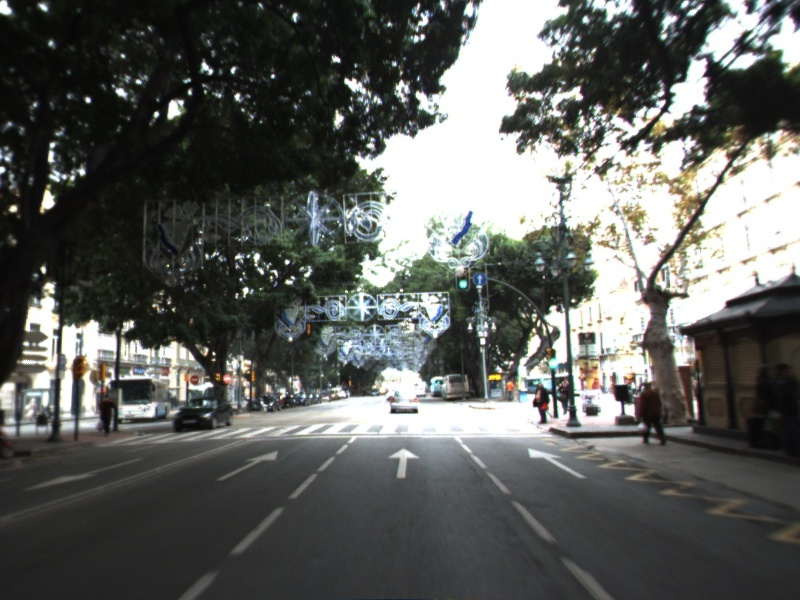STRAIGHT: (213, 448, 281, 483), (526, 446, 590, 481), (386, 446, 423, 480)
